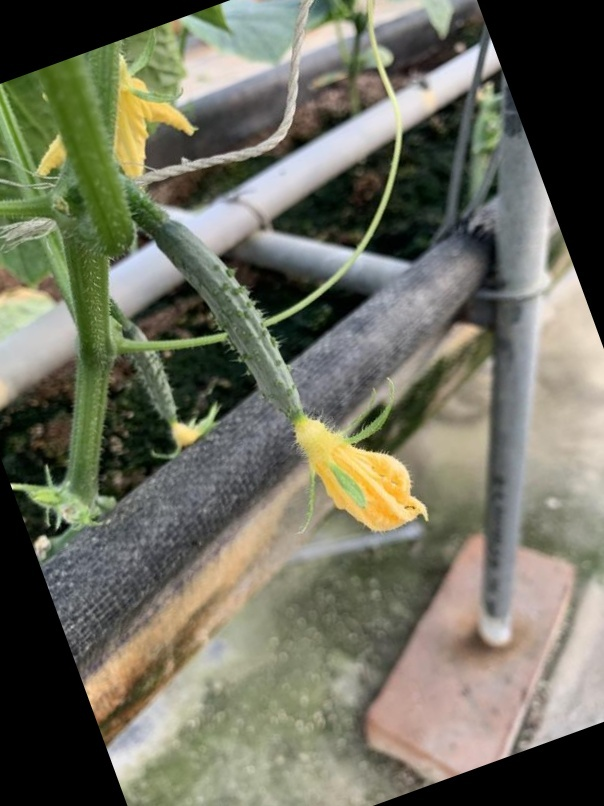bear: (152, 210, 419, 550)
